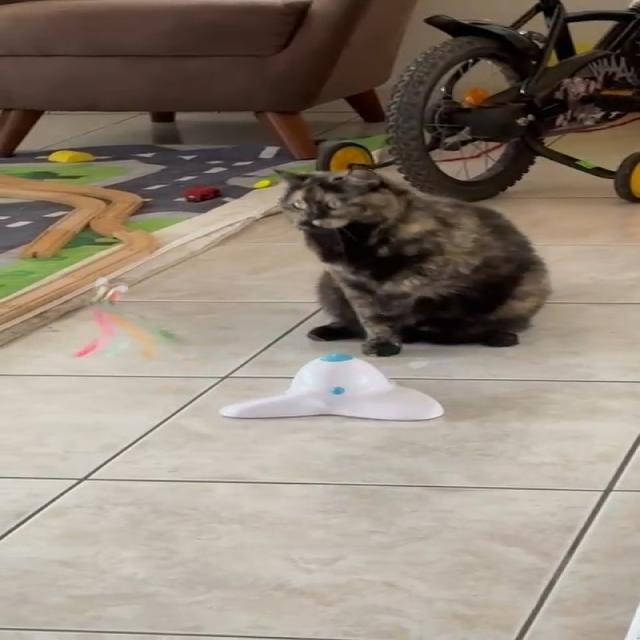authorized: (272, 166, 552, 357)
